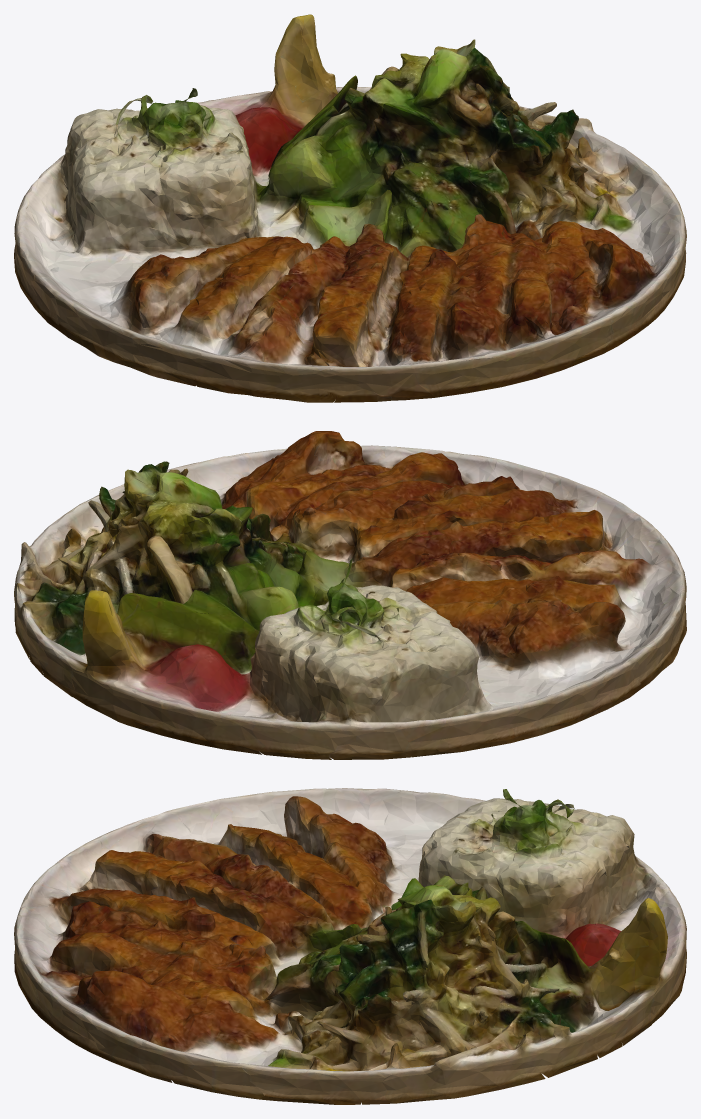
The picture shows the model from 3 angles, top to bottom: view 1: azimuth 30°, elevation 25°; view 2: azimuth 150°, elevation 25°; view 3: azimuth 270°, elevation 25°; orthographic projection.
Parts seen in each view (by area): view 1: mesh_0; view 2: mesh_0; view 3: mesh_0.
Boxes of the visible parts, x1,y1,x2,y2 form: mesh_0: (14, 14, 686, 402); mesh_0: (14, 431, 686, 759); mesh_0: (14, 788, 686, 1104).
Bounding box in the file's own units: 0.2662 × 0.0624 × 0.2659.
1 material, 1 textured.
